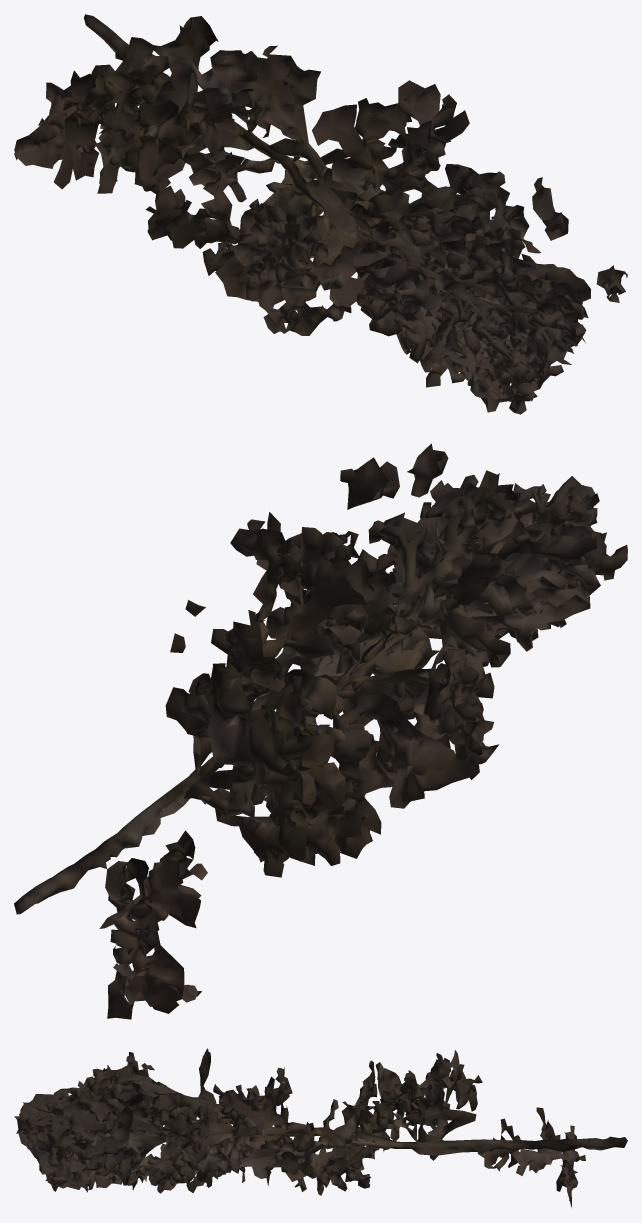
Rendered from tree_mesh.dae.
3 renders of one model, top to bottom at view 1: azimuth 30°, elevation 25°; view 2: azimuth 150°, elevation 25°; view 3: azimuth 270°, elevation 25°, orthographic. The views are drawn at different scales.
Parts seen in each view (by area): view 1: node0; view 2: node0; view 3: node0.
Part boxes in pixels (x1,y1,x2,y2): node0: (14,14,627,414); node0: (14,443,627,1019); node0: (14,1048,627,1207).
Size of the model in its own units: 8.07 by 7.66 by 26.99.
